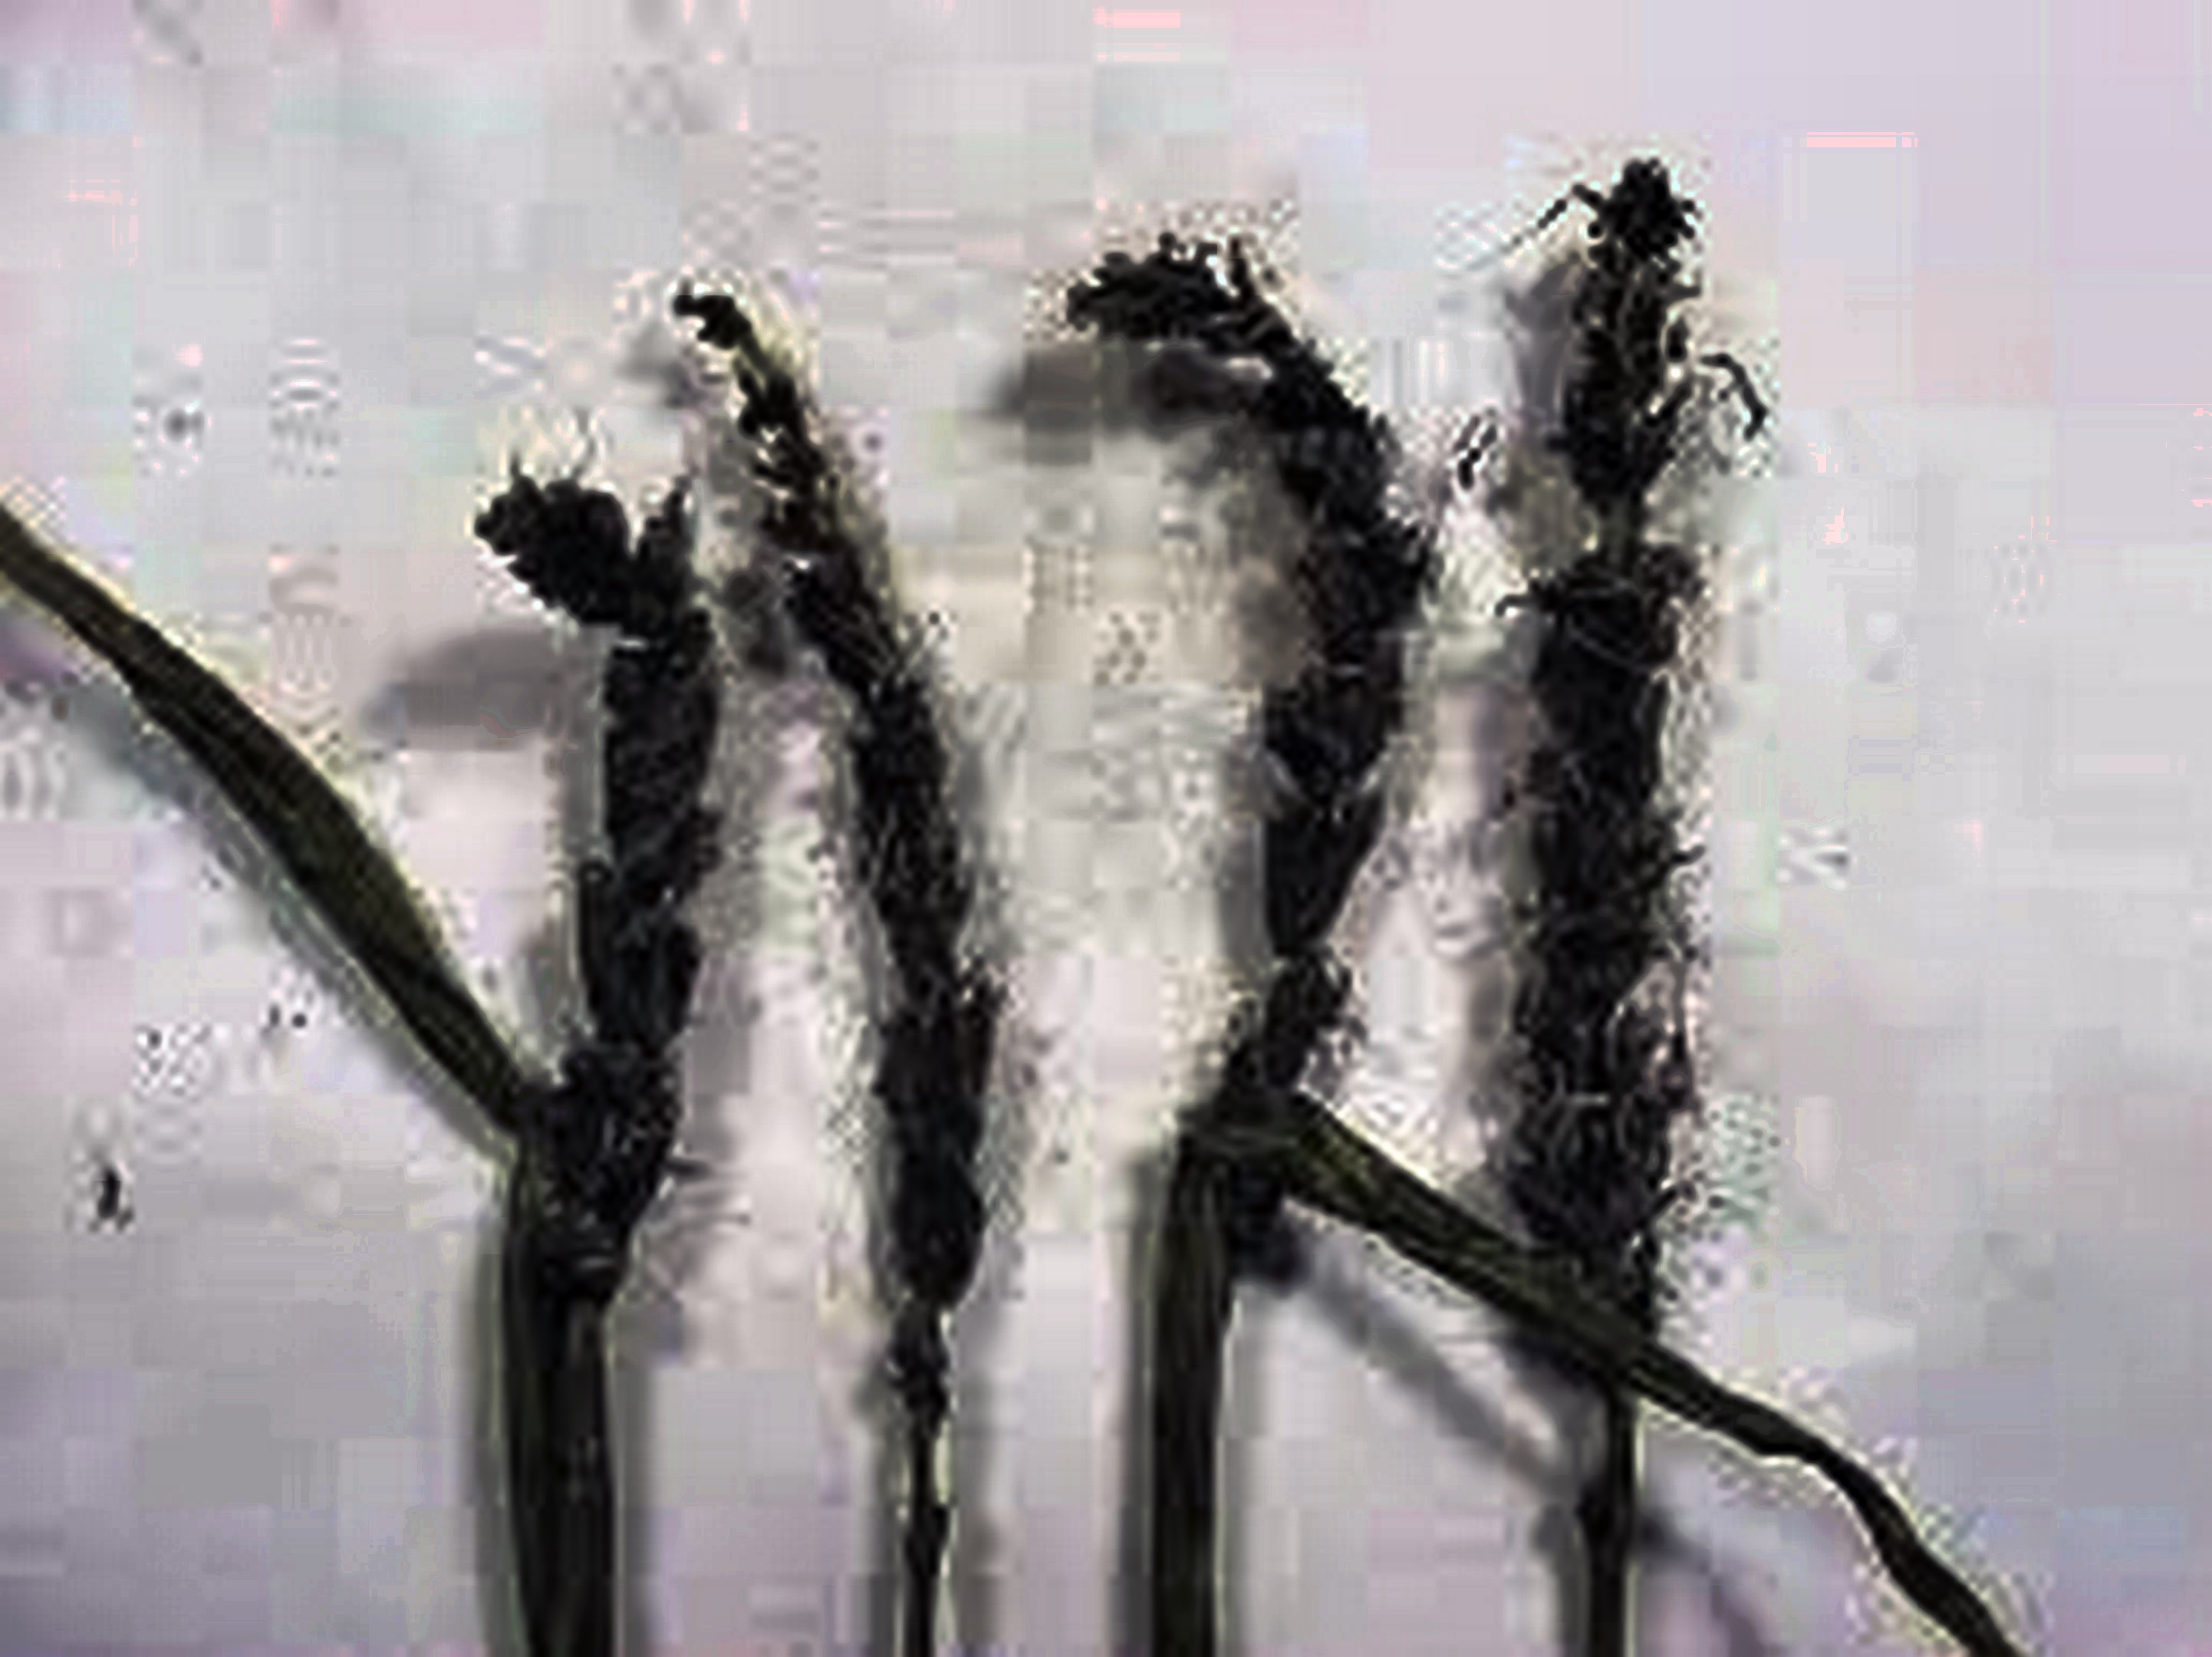Wheat Loose Smut: (428, 423, 747, 1171)
